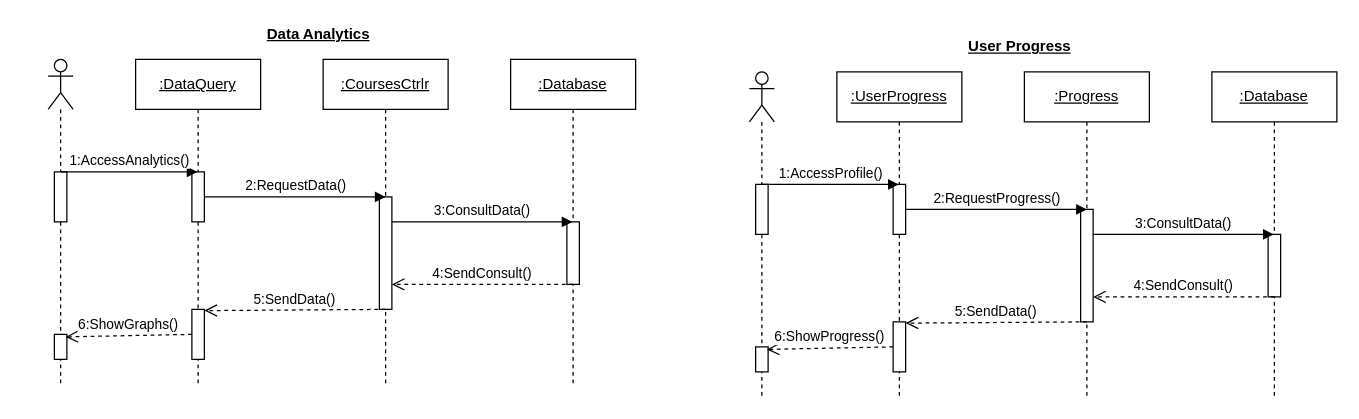
Some shapes in this 1359 by 419 pixel diagram are drawn without their labels. Each missing label, with the centre of its shape:
"Coordinator" goes at point 60,221.
"Employees" goes at point 761,234.
